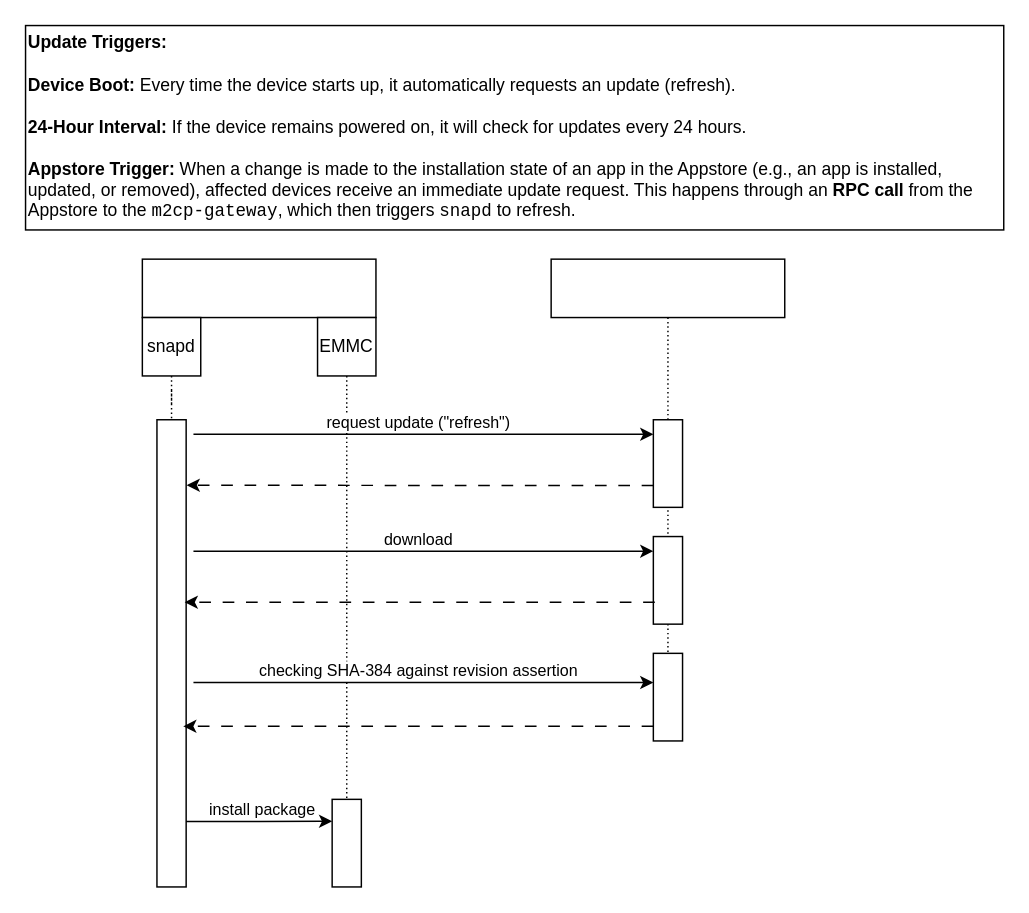
Image size: 1029x913. Some labels were removed from this diagram. Each missing label, with the centre of its shape:
"Appstore" goes at point 667,288.
"Edge Device" goes at point 258,288.
